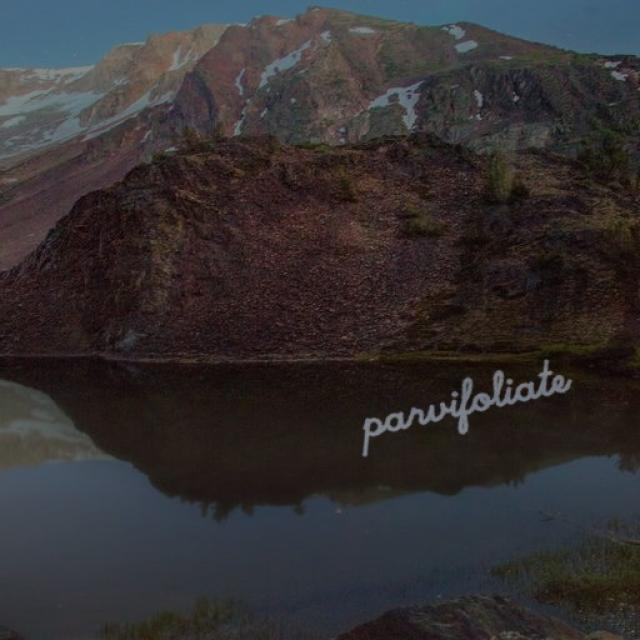watermark: (355, 352, 572, 444)
